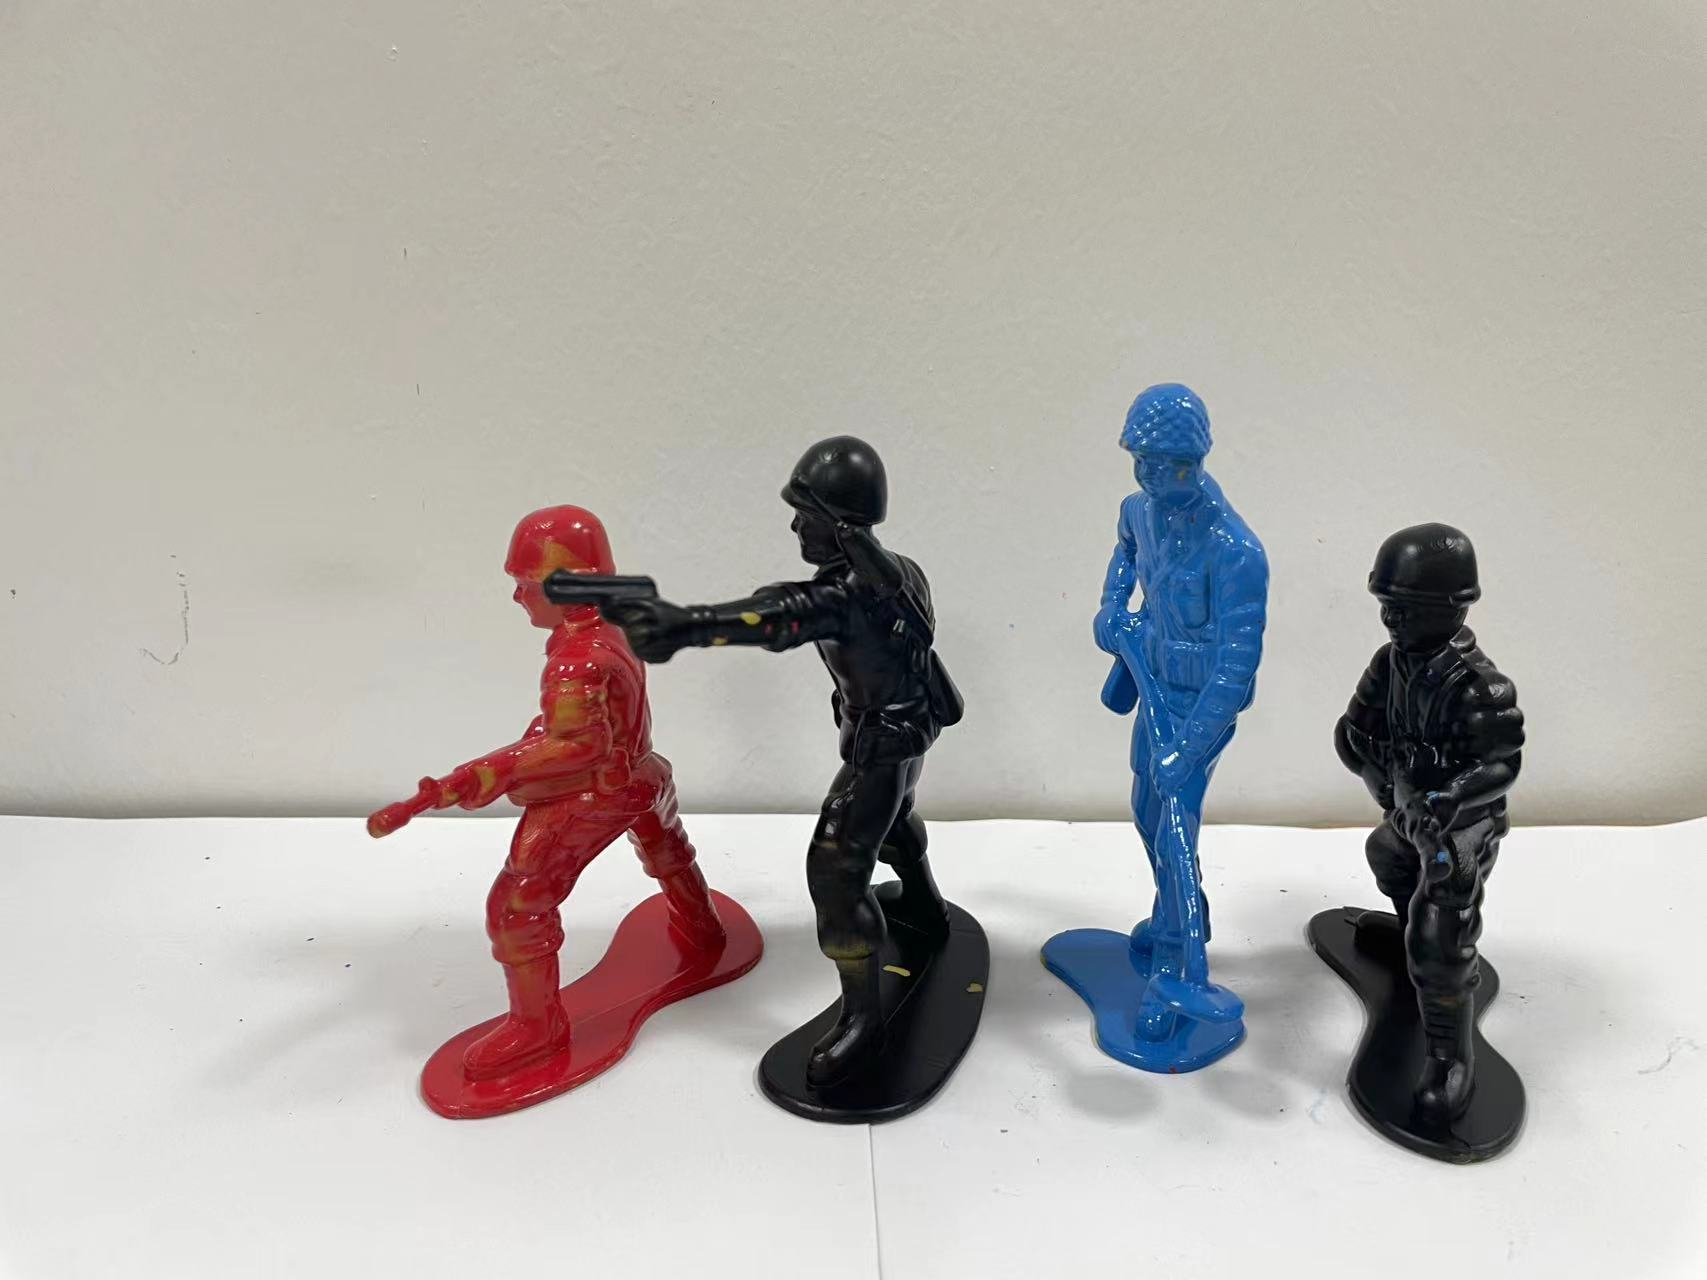black: (688, 424, 1035, 1140), (1294, 488, 1574, 1181)
blue: (1038, 360, 1284, 1125)
red: (323, 457, 759, 1119)
